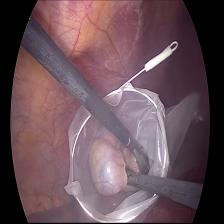Grasper: (129, 146, 152, 174), (126, 163, 137, 186)
Specimen Bag: (100, 27, 203, 175), (54, 101, 158, 224)
